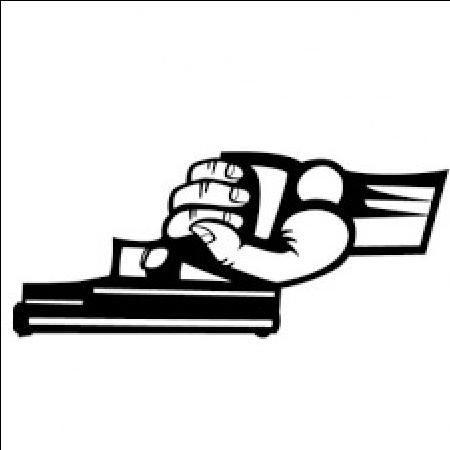Pistol: (10, 152, 292, 346)
